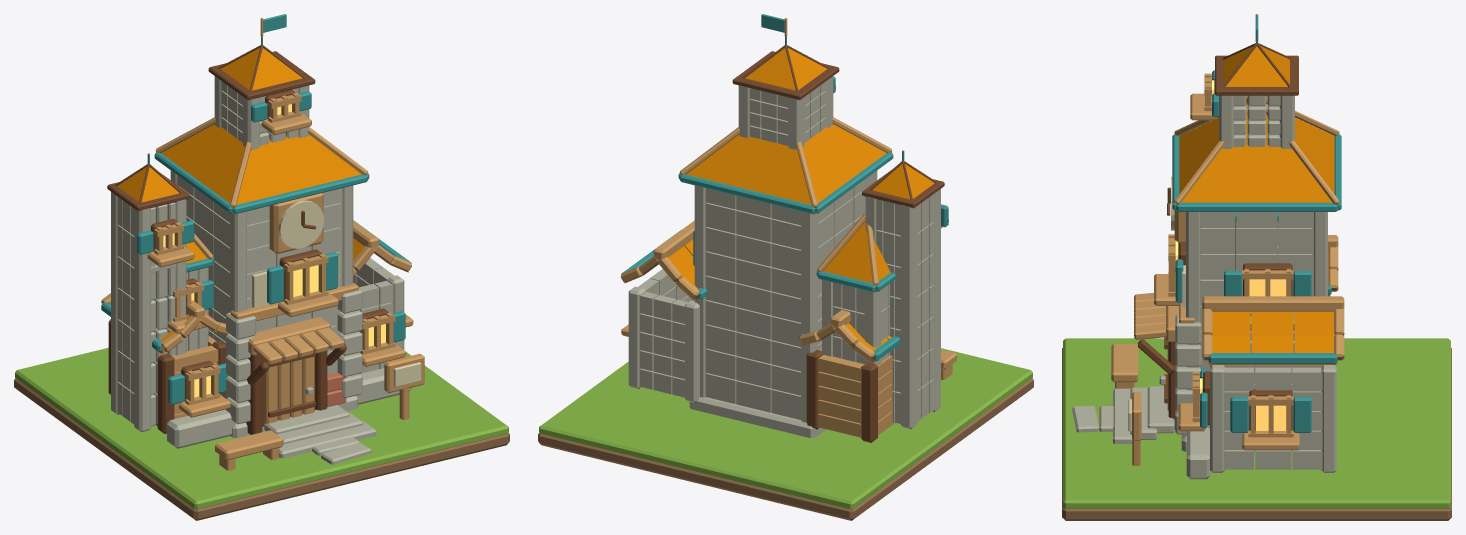
File: town_hall_l08_active_LOD0.glb
3 views of the same model, side by side, from view 1: azimuth 30°, elevation 25°; view 2: azimuth 150°, elevation 25°; view 3: azimuth 270°, elevation 25° (orthographic). The views are drawn at different scales.
Visible parts, largest first — view 1: town_hall_l08_active_grass_tile, town_hall_l08_active_earth_tile, town_hall_l08_active_corner_reinforcement.020, town_hall_l08_active_hip_roof_shingle.002, town_hall_l08_active_hip_roof_shingle.011, town_hall_l08_active_central_spire_roof_shingle, town_hall_l08_active_stone_foundation_course, town_hall_l08_active_corner_reinforcement, town_hall_l08_active_hip_roof_shingle.001, town_hall_l08_active_clock_face, town_hall_l08_active_corner_reinforcement.021, town_hall_l08_active_eave_trim (+36 smaller); view 2: town_hall_l08_active_grass_tile, town_hall_l08_active_earth_tile, town_hall_l08_active_corner_reinforcement.021, town_hall_l08_active_hip_roof_shingle.008, town_hall_l08_active_corner_reinforcement.001, town_hall_l08_active_hip_roof_shingle.011, town_hall_l08_active_foundation, town_hall_l08_active_central_spire_roof_shingle, town_hall_l08_active_corner_reinforcement.003, town_hall_l08_active_hip_roof_shingle.007, town_hall_l08_active_corner_reinforcement.020, town_hall_l08_active_corner_reinforcement.009 (+45 smaller); view 3: town_hall_l08_active_grass_tile, town_hall_l08_active_earth_tile, town_hall_l08_active_hip_roof_shingle.005, town_hall_l08_active_ridge_cap.005, town_hall_l08_active_hip_roof_shingle.004, town_hall_l08_active_central_spire_roof_shingle, town_hall_l08_active_corner_reinforcement.011, town_hall_l08_active_eave_trim.001, town_hall_l08_active_corner_reinforcement.002, town_hall_l08_active_corner_reinforcement.010, town_hall_l08_active_eave_trim.007, town_hall_l08_active_central_spire_cornice (+59 smaller).
Boxes of the visible parts, left/top/right/bottom form: town_hall_l08_active_grass_tile: left=15, top=347, right=508, bottom=509; town_hall_l08_active_earth_tile: left=14, top=378, right=509, bottom=520; town_hall_l08_active_corner_reinforcement.020: left=134, top=208, right=151, bottom=432; town_hall_l08_active_hip_roof_shingle.002: left=232, top=151, right=361, bottom=213; town_hall_l08_active_hip_roof_shingle.011: left=161, top=136, right=238, bottom=213; town_hall_l08_active_central_spire_roof_shingle: left=220, top=48, right=302, bottom=90; town_hall_l08_active_stone_foundation_course: left=167, top=409, right=235, bottom=448; town_hall_l08_active_corner_reinforcement: left=230, top=211, right=246, bottom=423; town_hall_l08_active_hip_roof_shingle.001: left=245, top=134, right=330, bottom=172; town_hall_l08_active_clock_face: left=278, top=200, right=324, bottom=248; town_hall_l08_active_corner_reinforcement.021: left=111, top=192, right=119, bottom=414; town_hall_l08_active_eave_trim: left=232, top=174, right=367, bottom=213; town_hall_l08_active_grass_tile: left=539, top=348, right=1032, bottom=509; town_hall_l08_active_earth_tile: left=538, top=378, right=1033, bottom=520; town_hall_l08_active_corner_reinforcement.021: left=900, top=205, right=917, bottom=429; town_hall_l08_active_hip_roof_shingle.008: left=686, top=151, right=815, bottom=213; town_hall_l08_active_corner_reinforcement.001: left=801, top=211, right=817, bottom=422; town_hall_l08_active_hip_roof_shingle.011: left=809, top=136, right=886, bottom=213; town_hall_l08_active_foundation: left=689, top=397, right=826, bottom=438; town_hall_l08_active_central_spire_roof_shingle: left=745, top=48, right=827, bottom=90; town_hall_l08_active_corner_reinforcement.003: left=694, top=185, right=706, bottom=397; town_hall_l08_active_hip_roof_shingle.007: left=717, top=134, right=802, bottom=172; town_hall_l08_active_corner_reinforcement.020: left=932, top=189, right=940, bottom=411; town_hall_l08_active_corner_reinforcement.009: left=685, top=300, right=699, bottom=402; town_hall_l08_active_grass_tile: left=1063, top=338, right=1450, bottom=508; town_hall_l08_active_earth_tile: left=1062, top=348, right=1451, bottom=520; town_hall_l08_active_hip_roof_shingle.005: left=1176, top=171, right=1337, bottom=211; town_hall_l08_active_ridge_cap.005: left=1202, top=296, right=1344, bottom=311; town_hall_l08_active_hip_roof_shingle.004: left=1205, top=135, right=1308, bottom=171; town_hall_l08_active_central_spire_roof_shingle: left=1224, top=46, right=1289, bottom=86; town_hall_l08_active_corner_reinforcement.011: left=1321, top=365, right=1336, bottom=472; town_hall_l08_active_eave_trim.001: left=1176, top=202, right=1337, bottom=211; town_hall_l08_active_corner_reinforcement.002: left=1186, top=212, right=1201, bottom=435; town_hall_l08_active_corner_reinforcement.010: left=1210, top=365, right=1224, bottom=472; town_hall_l08_active_eave_trim.007: left=1208, top=353, right=1337, bottom=363; town_hall_l08_active_central_spire_cornice: left=1215, top=55, right=1298, bottom=95.
Size of the model in its own units: 3.6 by 4.34 by 3.6.
